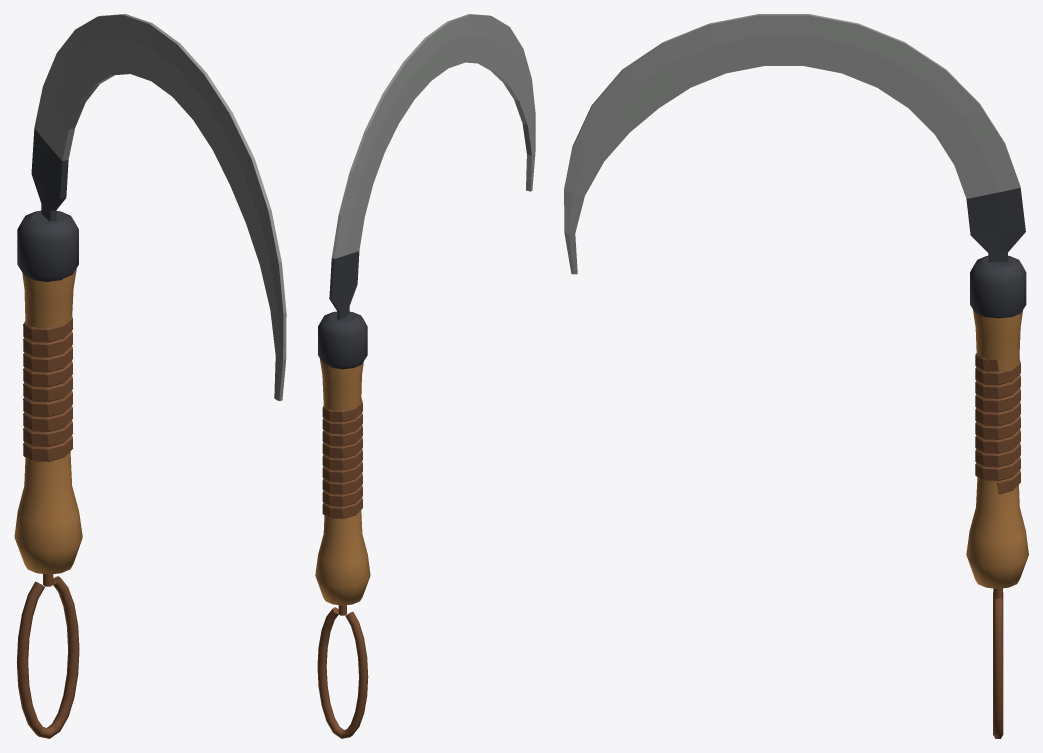
File: tool_sickle.fbx
3 views of the same model, side by side, from view 1: azimuth 30°, elevation 25°; view 2: azimuth 150°, elevation 25°; view 3: azimuth 270°, elevation 25° (orthographic). The views are drawn at different scales.
Visible parts, largest first — view 1: Tool_Sickle_Blade, Tool_Sickle_Handle, Tool_Sickle_Wrap, Tool_Sickle_Thong, Tool_Sickle_Ferrule; view 2: Tool_Sickle_Blade, Tool_Sickle_Handle, Tool_Sickle_Wrap, Tool_Sickle_Thong, Tool_Sickle_Ferrule; view 3: Tool_Sickle_Blade, Tool_Sickle_Handle, Tool_Sickle_Wrap, Tool_Sickle_Ferrule, Tool_Sickle_Thong.
Part boxes in pixels (x1,y1,x2,y2): Tool_Sickle_Blade: (31,14,286,400); Tool_Sickle_Handle: (14,268,82,574); Tool_Sickle_Wrap: (23,316,73,461); Tool_Sickle_Thong: (16,574,79,738); Tool_Sickle_Ferrule: (17,210,78,281); Tool_Sickle_Blade: (329,14,535,319); Tool_Sickle_Handle: (315,358,370,605); Tool_Sickle_Wrap: (322,398,362,518); Tool_Sickle_Thong: (317,605,368,738); Tool_Sickle_Ferrule: (318,311,367,369); Tool_Sickle_Blade: (564,14,1025,274); Tool_Sickle_Handle: (966,310,1028,588); Tool_Sickle_Wrap: (975,353,1020,494); Tool_Sickle_Ferrule: (970,255,1026,318); Tool_Sickle_Thong: (993,588,1003,738).
Bounding box in the file's own units: 6.07 × 76.46 × 44.51.
